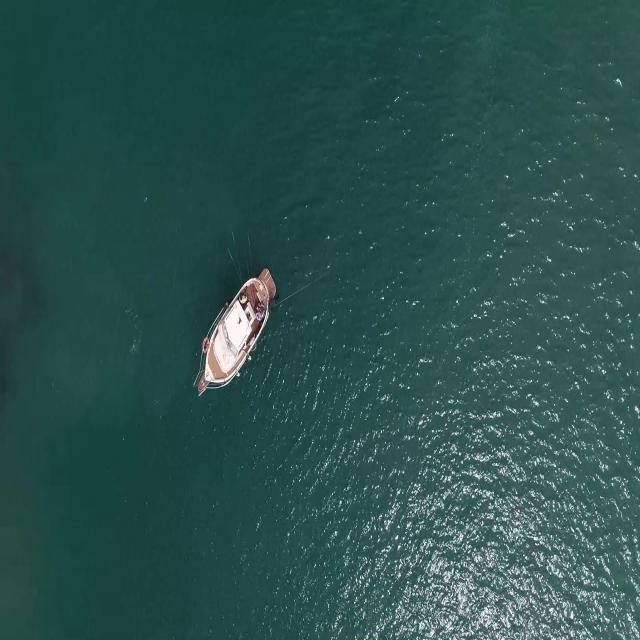boat: (190, 265, 276, 392)
life_buoy: (200, 331, 210, 355)
person: (253, 307, 265, 323), (237, 292, 250, 306)
